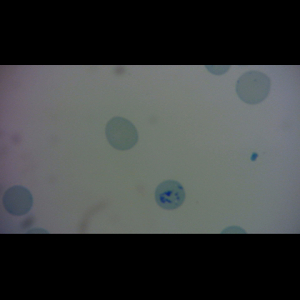aggregate reticulocyte: (153, 178, 188, 211)
erythrocyte: (104, 116, 140, 152), (1, 184, 34, 217)
punctate reticulocyte: (234, 69, 272, 105)
